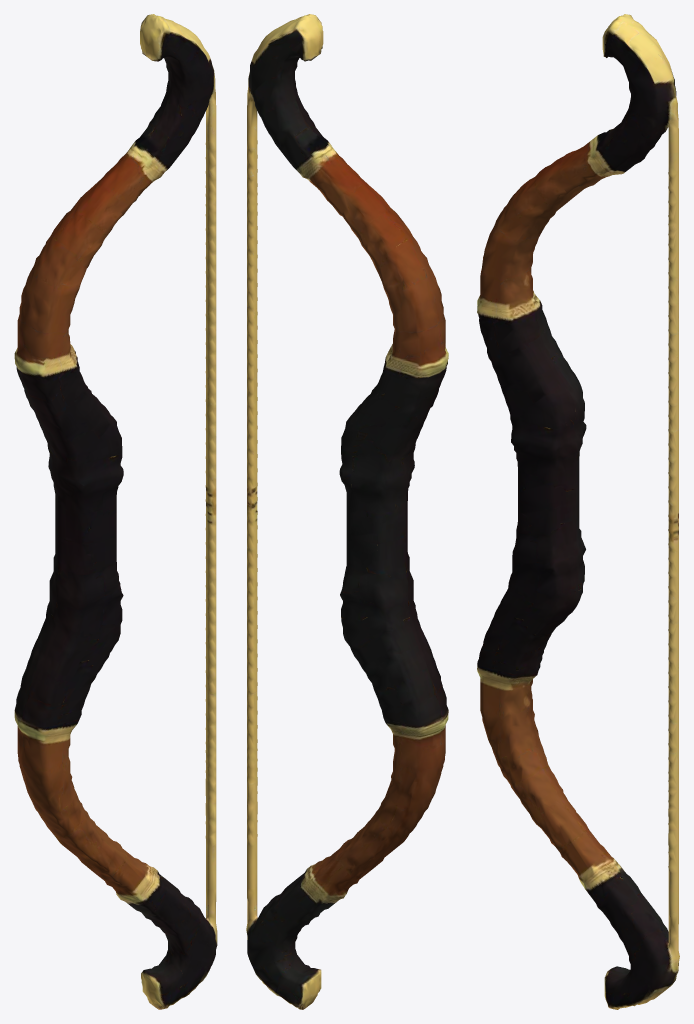
The model's file is Kaman.glb.
The picture shows the model from 3 angles, left to right: view 1: azimuth 30°, elevation 25°; view 2: azimuth 150°, elevation 25°; view 3: azimuth 330°, elevation 25°; orthographic projection.
Size of the model in its own units: 0.3953 by 1.91 by 0.1135.
1 material, 1 textured.
